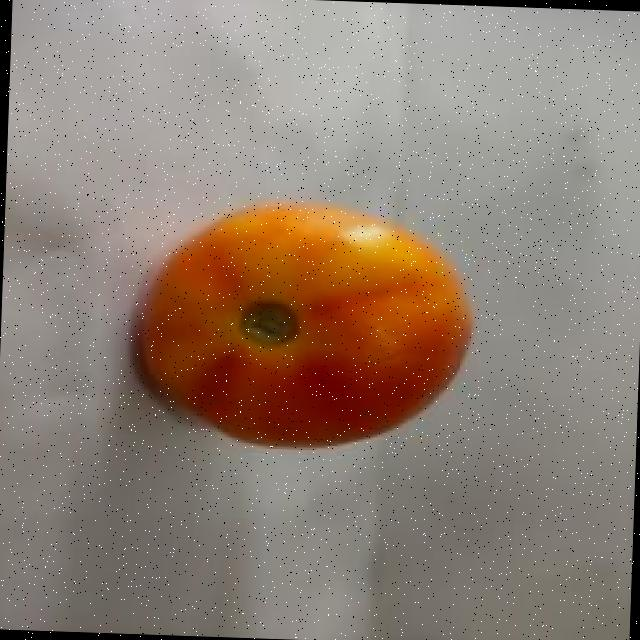Ripe: (132, 188, 480, 462)
